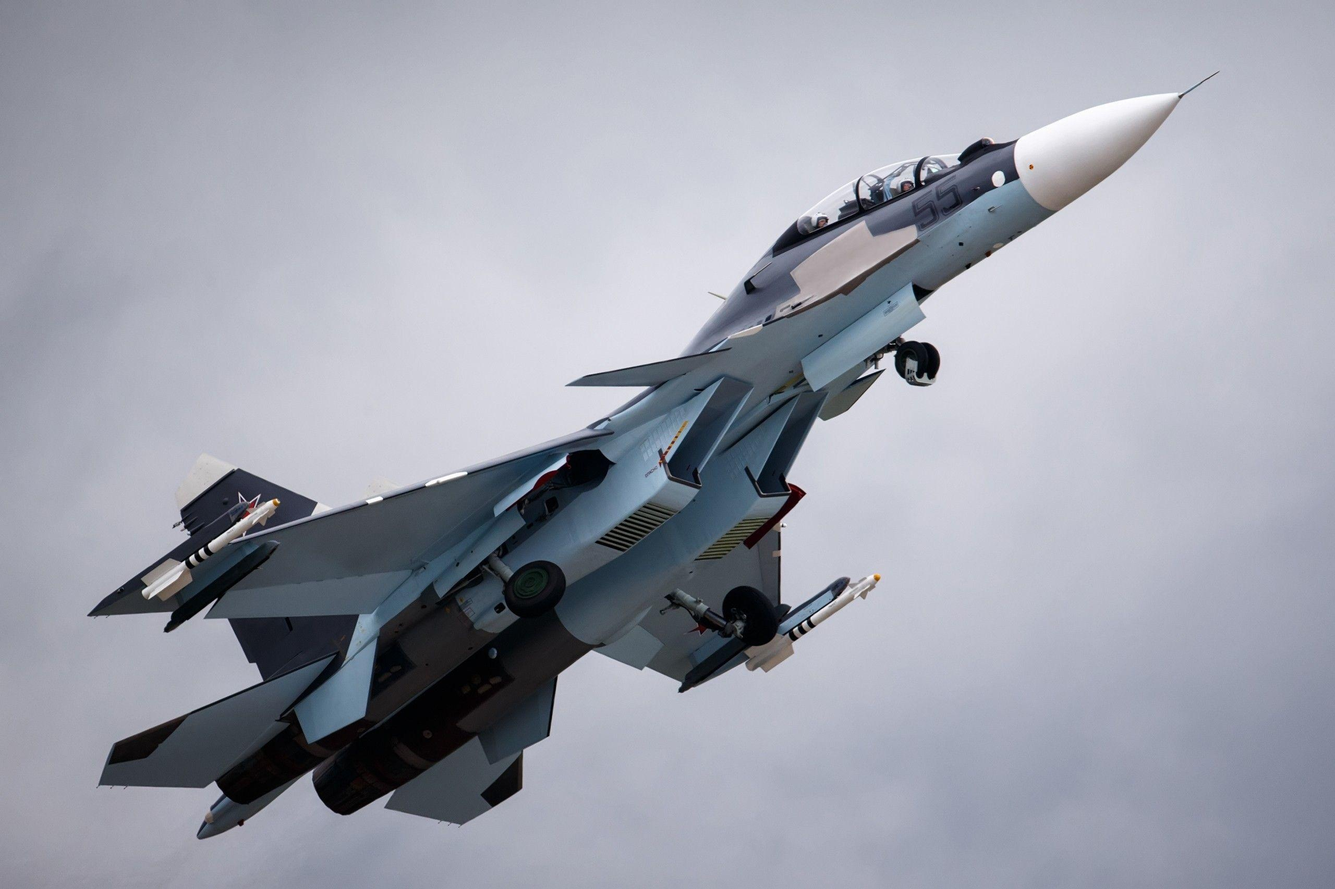aircraft: (34, 86, 1184, 829)
